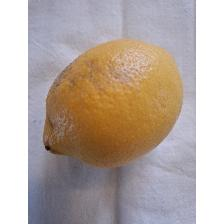Zitrone: (39, 36, 185, 170)
